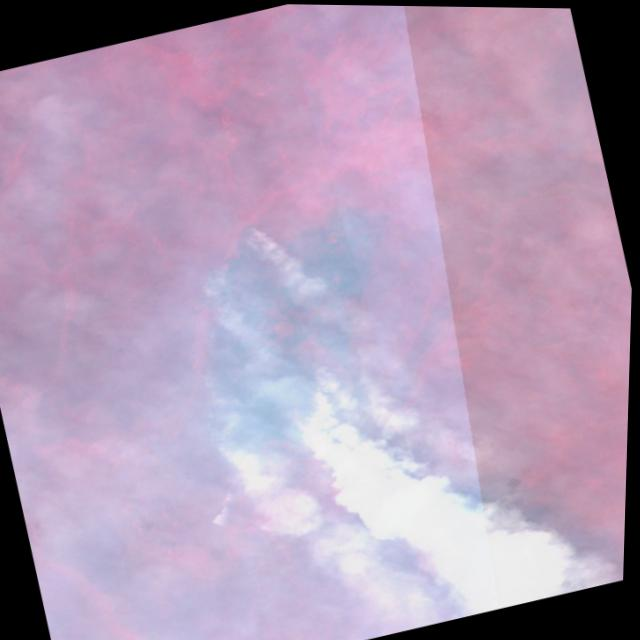fire: (159, 178, 433, 485)
